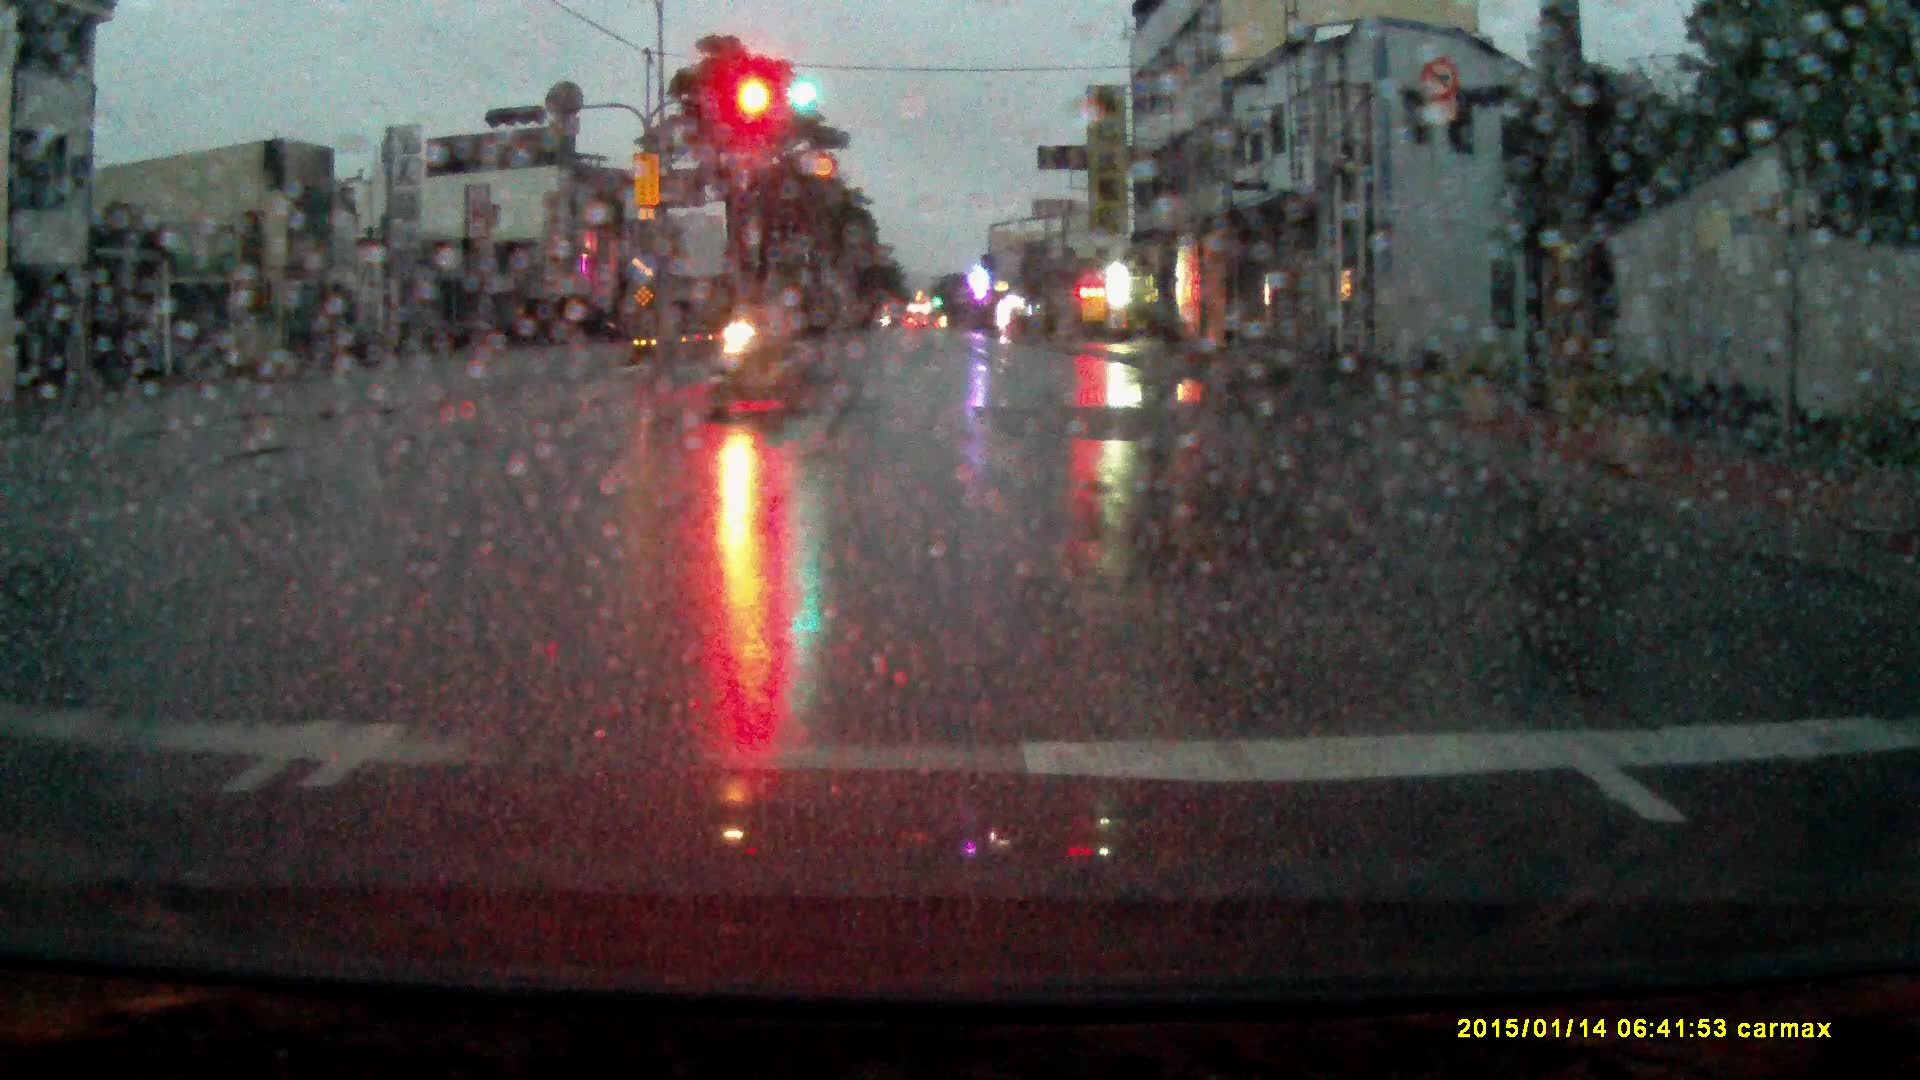rider: (707, 269, 807, 424)
